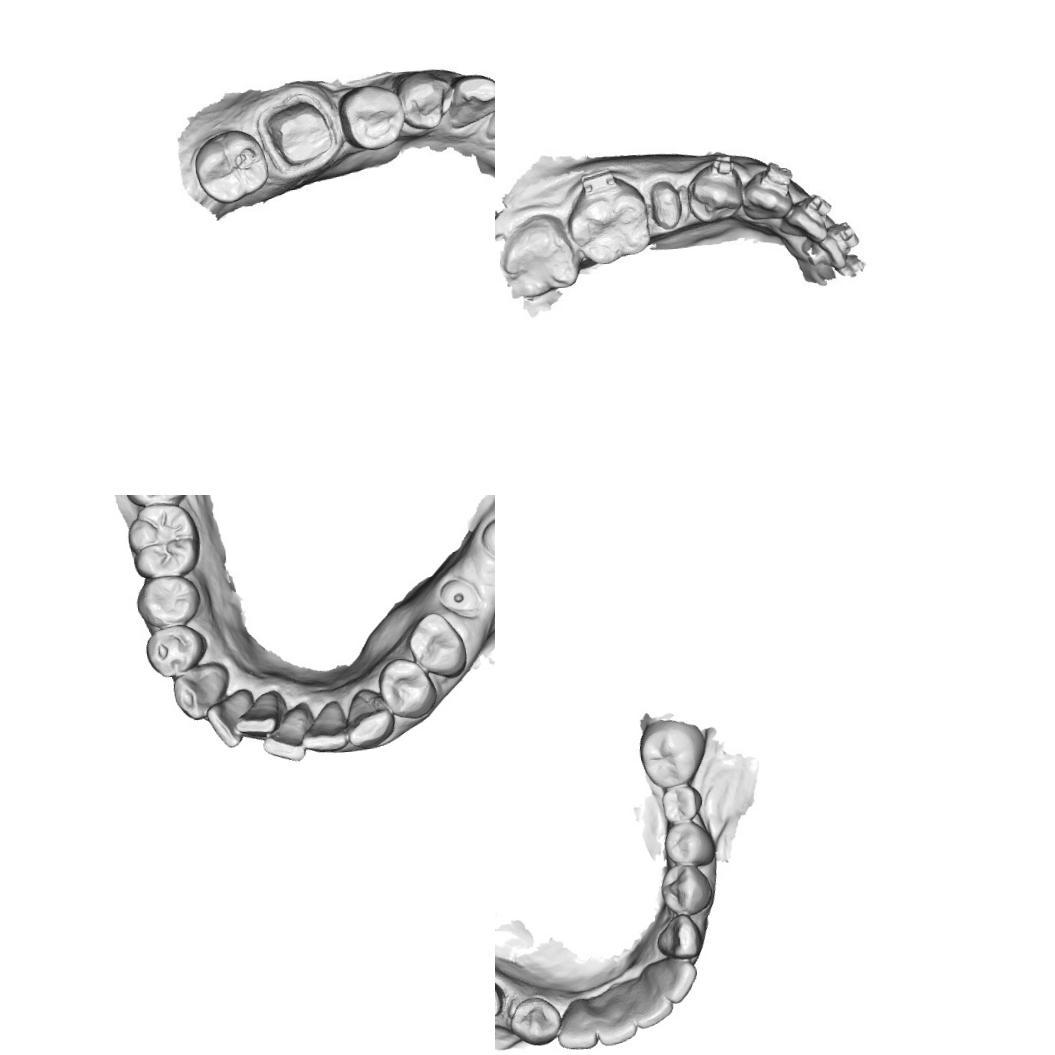canine: (169, 659, 234, 721), (735, 170, 798, 230), (342, 686, 397, 750), (445, 66, 495, 134), (506, 992, 564, 1048), (652, 910, 704, 960)
crown: (254, 88, 340, 176), (642, 174, 687, 234), (495, 977, 506, 1022)
implant: (436, 572, 482, 616), (475, 513, 495, 563)
incisor: (202, 687, 258, 749), (296, 698, 351, 754), (643, 954, 701, 1007), (259, 707, 310, 764), (627, 972, 675, 1030), (590, 990, 638, 1048), (553, 997, 600, 1052), (782, 198, 834, 247), (232, 688, 284, 737), (813, 232, 850, 269), (480, 83, 495, 142)
molar: (495, 211, 581, 300), (568, 179, 653, 264), (189, 125, 273, 208), (123, 499, 203, 582), (634, 716, 706, 791), (659, 782, 706, 824)
premolar: (335, 80, 407, 154), (374, 653, 441, 723), (405, 610, 470, 679), (682, 161, 744, 228), (141, 622, 209, 680), (134, 572, 202, 629), (396, 68, 456, 132), (656, 859, 716, 917), (660, 818, 718, 868)
